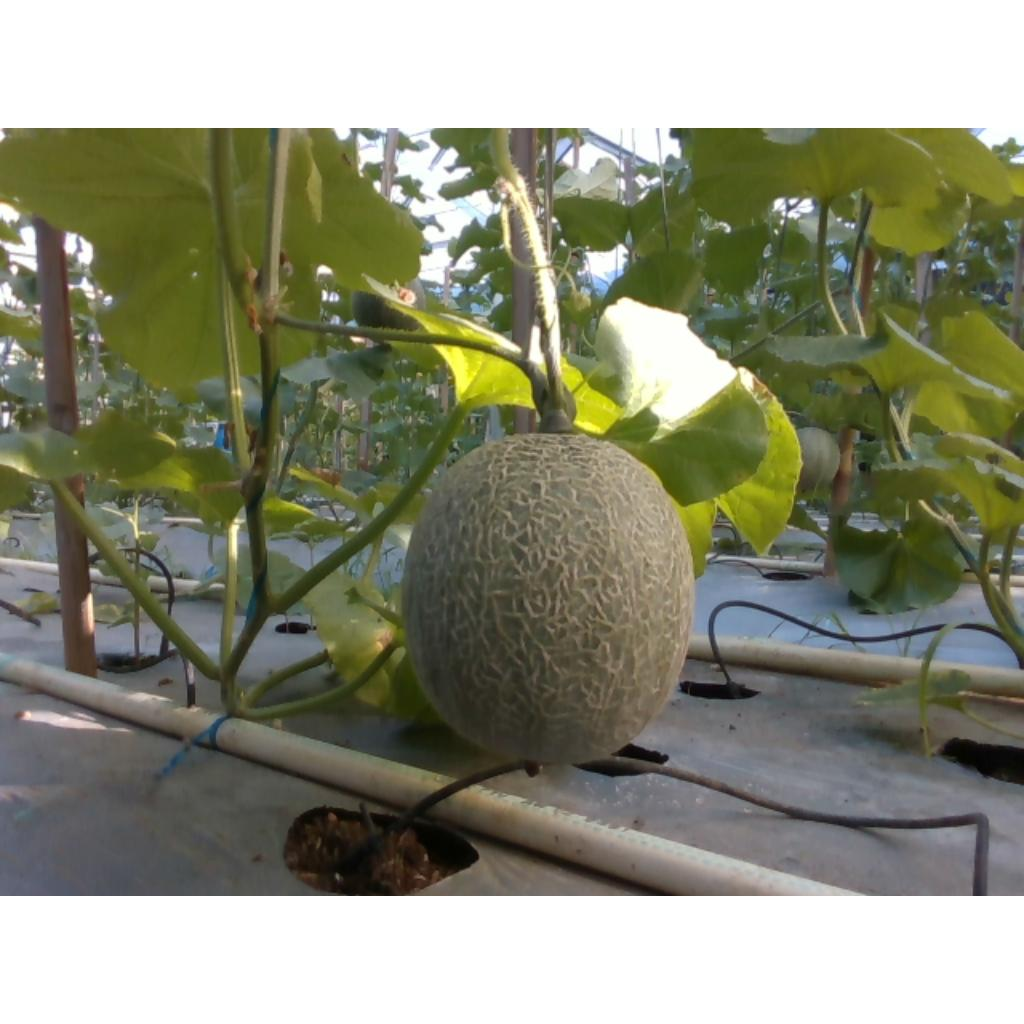melon: (405, 435, 694, 762)
